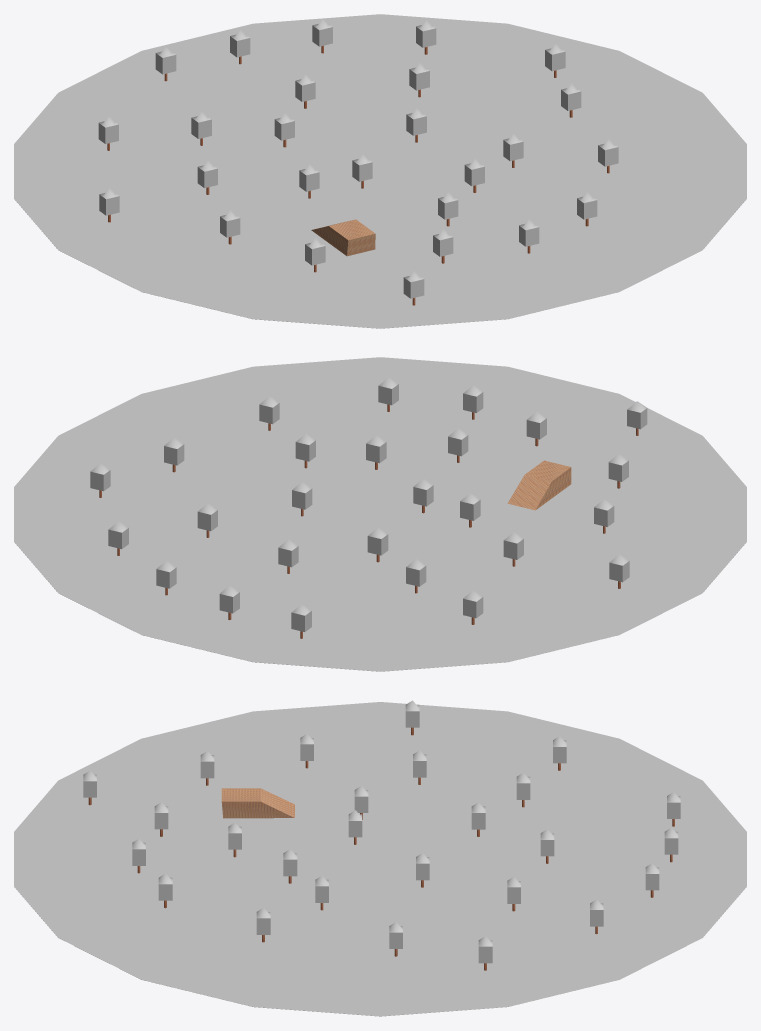
File: Stage2.fbx
The picture shows the model from 3 angles, top to bottom: view 1: azimuth 30°, elevation 25°; view 2: azimuth 150°, elevation 25°; view 3: azimuth 270°, elevation 25°; orthographic projection.
Visible parts, largest first — view 1: Cylinder001, Pyramid001; view 2: Cylinder001, Pyramid001; view 3: Cylinder001, Pyramid001.
Part boxes in pixels (x1,y1,x2,y2): Cylinder001: [14, 14, 746, 328]; Pyramid001: [311, 219, 375, 256]; Cylinder001: [14, 357, 746, 671]; Pyramid001: [507, 460, 571, 510]; Cylinder001: [14, 702, 746, 1016]; Pyramid001: [221, 788, 294, 818].
Bounding box in the file's own units: 10000 × 522 × 9848.
